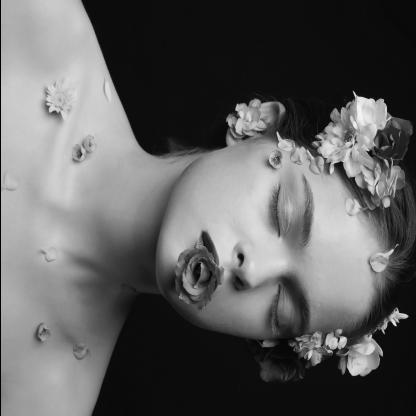Eye: (267, 177, 292, 241), (267, 283, 292, 334)
Mouth: (192, 229, 218, 266)
Nose: (231, 240, 285, 291)
